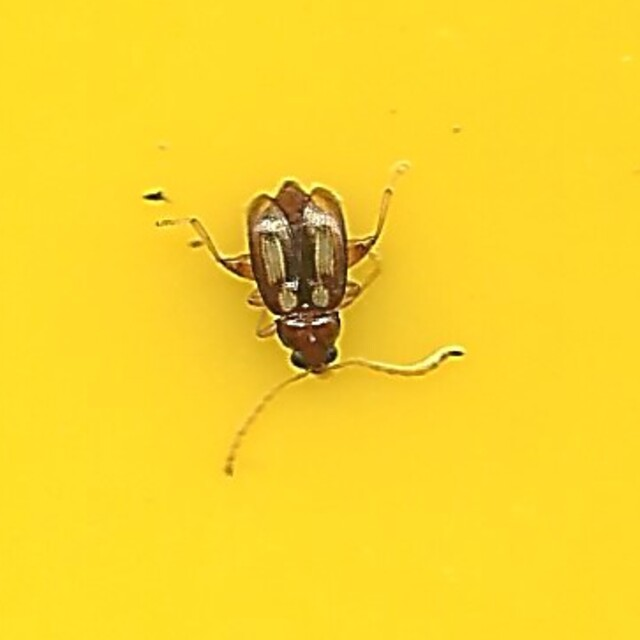Coleoptera: (176, 164, 464, 476)
